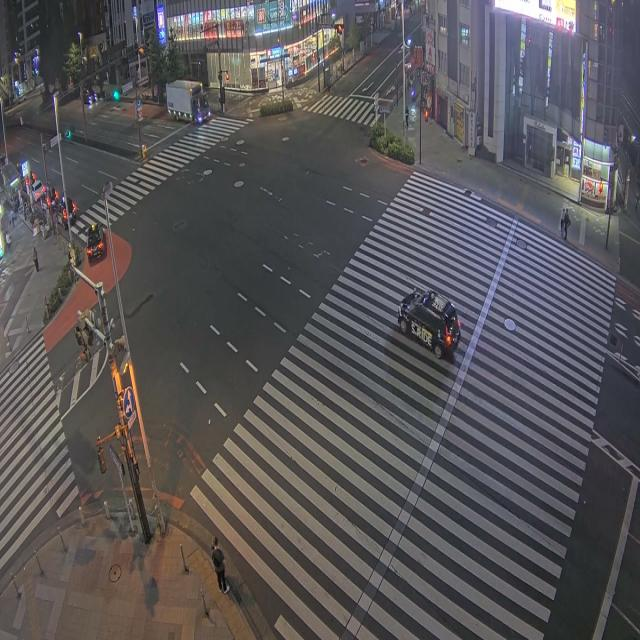car: (398, 289, 460, 359), (86, 224, 106, 261), (32, 180, 46, 202), (55, 204, 67, 228)
truck: (166, 80, 210, 123)
